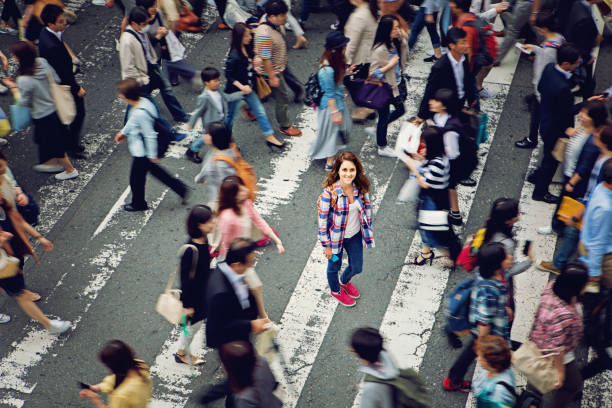with mask: (124, 9, 154, 38)
without mask: (198, 123, 231, 153), (332, 162, 362, 191), (191, 206, 221, 235), (192, 67, 222, 96), (233, 19, 263, 48), (376, 14, 406, 43), (445, 26, 475, 55), (420, 89, 450, 118), (556, 42, 586, 71), (570, 102, 600, 131), (484, 245, 514, 274), (470, 348, 500, 377), (113, 78, 143, 107), (496, 203, 526, 232), (580, 123, 610, 152), (264, 1, 294, 29), (41, 1, 71, 29)
